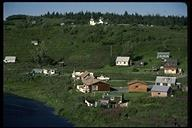grass: (42, 27, 158, 49)
house: (84, 78, 113, 91), (149, 83, 173, 98), (126, 78, 149, 93), (113, 55, 134, 66), (3, 56, 18, 64)
water: (4, 86, 75, 127)
